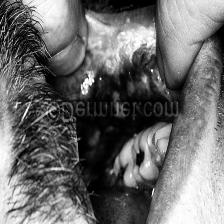Non-Cancerous Skin Condition: (66, 20, 178, 93)
